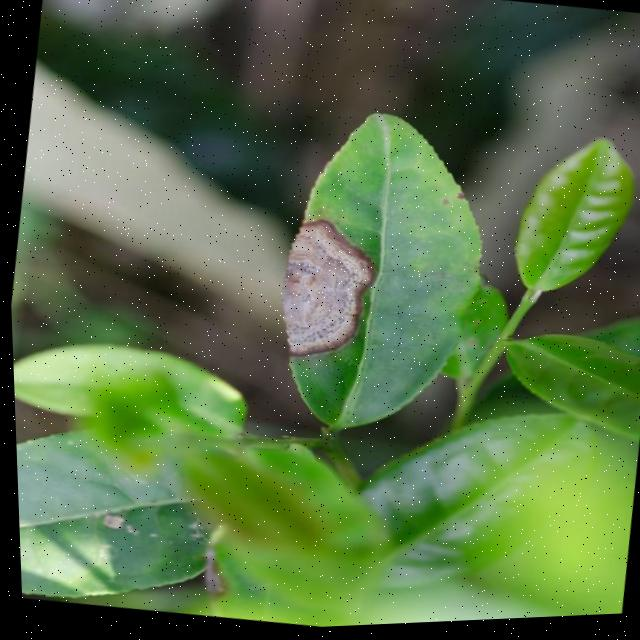Tea cloud leaf blight: (268, 216, 381, 372)
